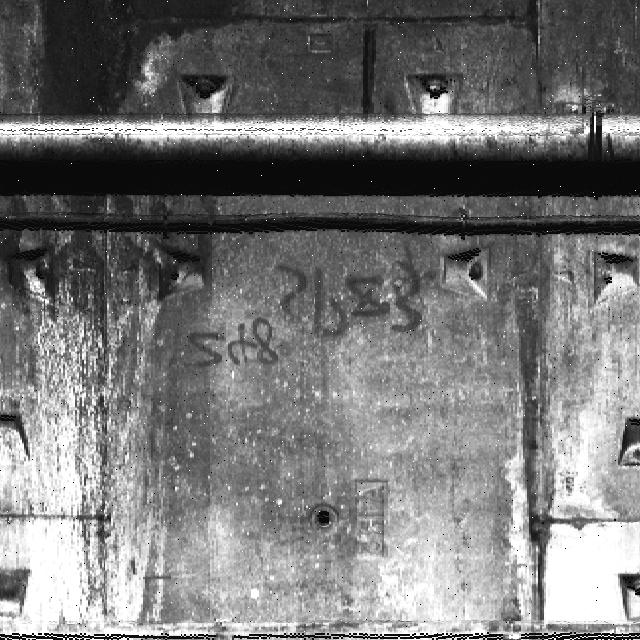leakage: (0, 196, 221, 638), (0, 8, 262, 128), (503, 235, 580, 636), (345, 23, 386, 123)
